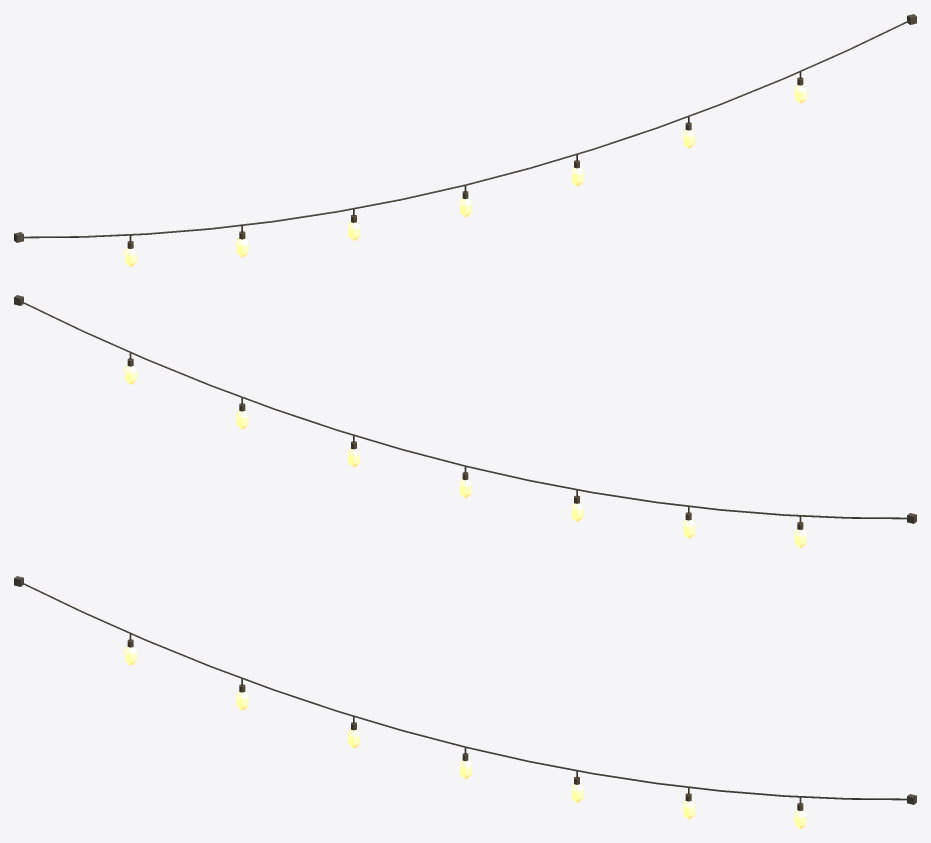
The model's file is string_lights_long.glb.
The picture shows the model from 3 angles, top to bottom: view 1: azimuth 30°, elevation 25°; view 2: azimuth 150°, elevation 25°; view 3: azimuth 330°, elevation 25°; orthographic projection.
Visible parts, largest first — view 1: winter_string_lights_long; view 2: winter_string_lights_long; view 3: winter_string_lights_long.
Boxes of the visible parts, <box> form: winter_string_lights_long: <box>14,14,916,266</box>; winter_string_lights_long: <box>14,295,916,547</box>; winter_string_lights_long: <box>14,576,916,828</box>.
Bounding box in the file's own units: 6.65 × 0.645 × 0.0779.
2 materials, 2 textured.
